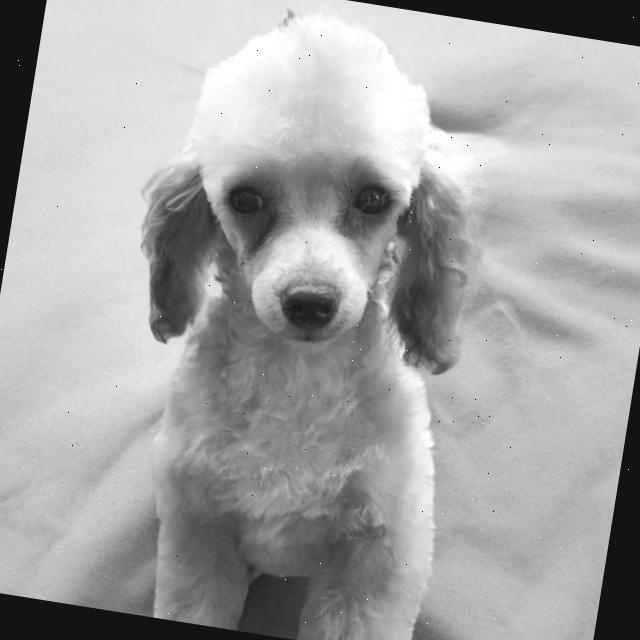Poodle_dog: (106, 0, 536, 440)
